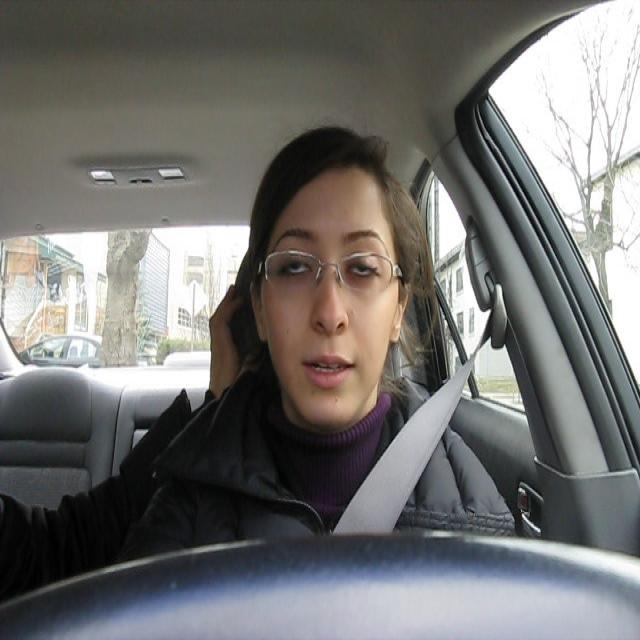sem_oculos: (262, 225, 422, 310)
